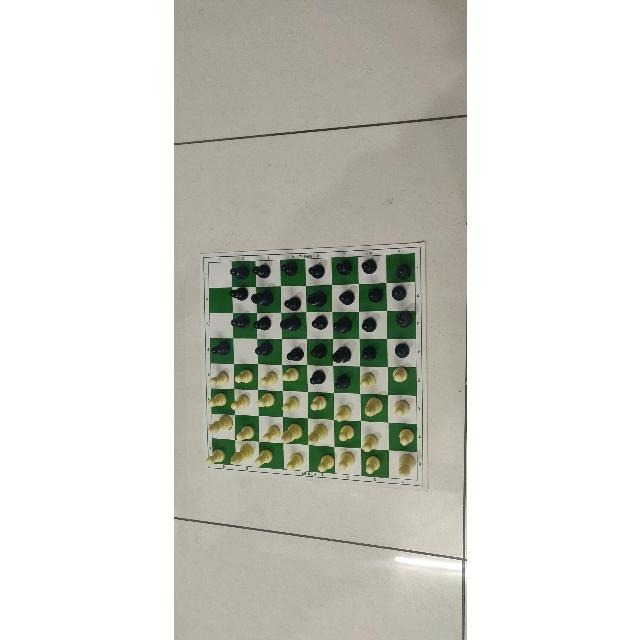black-bishop: (250, 289, 274, 309), (392, 308, 413, 329), (278, 314, 300, 334), (304, 289, 327, 308), (329, 346, 353, 364), (329, 316, 352, 334)
black-pawn: (209, 339, 233, 357), (228, 312, 251, 330), (393, 262, 413, 282), (365, 285, 385, 305), (308, 314, 330, 332), (332, 373, 351, 393), (227, 285, 248, 303), (359, 344, 378, 363), (229, 264, 249, 282), (285, 346, 305, 364), (359, 316, 379, 334), (279, 259, 297, 278), (338, 289, 356, 308), (253, 340, 272, 358), (309, 368, 326, 388), (360, 258, 378, 276), (390, 285, 408, 303), (306, 263, 325, 280), (333, 259, 352, 276), (309, 342, 326, 361), (392, 340, 409, 359), (250, 263, 270, 279), (282, 296, 302, 311), (253, 315, 271, 330)
white-bishop: (361, 395, 385, 419), (206, 415, 232, 436), (306, 422, 328, 446), (228, 444, 253, 465), (394, 453, 415, 478), (279, 423, 302, 445)
white-pawn: (206, 369, 232, 387), (254, 446, 274, 469), (390, 365, 410, 385), (395, 427, 415, 447), (206, 392, 228, 410), (228, 394, 251, 411), (233, 369, 254, 387), (279, 395, 300, 413), (204, 448, 225, 466), (308, 393, 327, 412), (258, 371, 278, 389), (281, 366, 301, 384), (235, 424, 255, 442), (284, 453, 304, 471), (363, 454, 380, 475), (256, 392, 274, 411), (332, 405, 351, 423), (262, 423, 280, 442), (337, 423, 355, 442), (316, 454, 334, 473), (357, 372, 377, 389), (392, 400, 410, 418), (338, 452, 354, 472), (362, 434, 378, 452)
